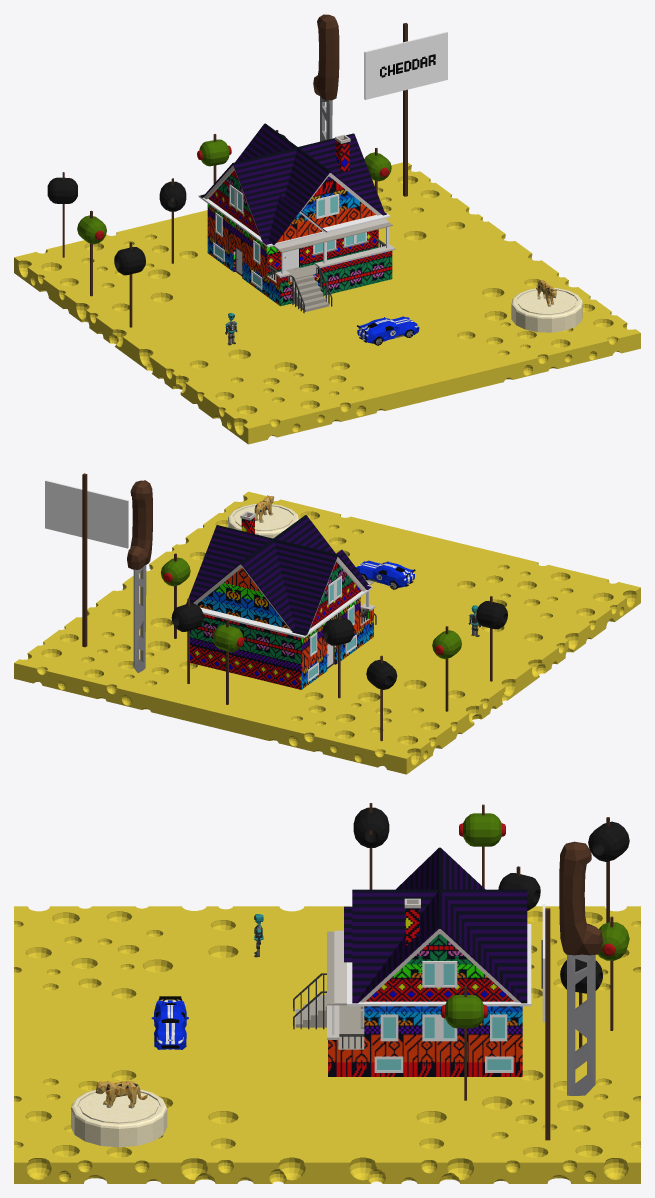
3 renders of one model, top to bottom at view 1: azimuth 30°, elevation 25°; view 2: azimuth 150°, elevation 25°; view 3: azimuth 270°, elevation 25°, orthographic. The views are drawn at different scales.
Parts seen in each view (by area): view 1: Cube.022, Cube.966, Cube.023, Cylinder.016, Cube.024, VEHICLES_RACING_CAR, Sphere.017, Sphere.016, Sphere.020, Sphere.018, Sphere.022, Sphere.019; view 2: Cube.022, Cube.966, Cube.023, Cube.024, Cylinder.016, VEHICLES_RACING_CAR, Sphere.017, Sphere.020, Sphere.021, Sphere.016, Sphere.018, Sphere.022 (+1 smaller); view 3: Cube.022, Cube.966, Cube.024, Cylinder.016, Cube.023, VEHICLES_RACING_CAR, Sphere.019, Sphere.016, Sphere.018, Sphere.017, Sphere.022, ANIMAL_JAGUAR (+2 smaller).
Boxes of the visible parts, x1,y1,x2,y2 form: Cube.022: [14, 162, 640, 444]; Cube.966: [198, 123, 395, 313]; Cube.023: [364, 23, 447, 196]; Cylinder.016: [511, 288, 582, 332]; Cube.024: [313, 14, 339, 141]; VEHICLES_RACING_CAR: [357, 316, 419, 345]; Sphere.017: [114, 242, 145, 327]; Sphere.016: [47, 172, 77, 257]; Sphere.020: [159, 178, 186, 263]; Sphere.018: [77, 210, 106, 296]; Sphere.022: [197, 134, 231, 183]; Sphere.019: [364, 148, 391, 192]; Cube.022: [14, 491, 640, 774]; Cube.966: [185, 511, 376, 689]; Cube.023: [45, 473, 128, 647]; Cube.024: [127, 480, 152, 672]; Cylinder.016: [228, 504, 298, 538]; VEHICLES_RACING_CAR: [356, 560, 415, 589]; Sphere.017: [476, 596, 507, 681]; Sphere.020: [322, 612, 354, 698]; Sphere.021: [171, 598, 203, 683]; Sphere.016: [366, 655, 397, 741]; Sphere.018: [432, 626, 461, 711]; Sphere.022: [212, 619, 244, 704]; Cube.022: [14, 906, 640, 1183]; Cube.966: [293, 847, 531, 1076]; Cube.024: [559, 841, 602, 1095]; Cylinder.016: [71, 1089, 167, 1147]; Cube.023: [541, 904, 550, 1140]; VEHICLES_RACING_CAR: [151, 996, 188, 1049]; Sphere.019: [441, 986, 487, 1100]; Sphere.016: [588, 817, 629, 922]; Sphere.018: [459, 804, 505, 887]; Sphere.017: [353, 803, 389, 889]; Sphere.022: [598, 916, 629, 1030]; ANIMAL_JAGUAR: [95, 1081, 147, 1108].
Bounding box in the file's own units: 3917 × 2007 × 4000.
48 materials, 7 textured.
